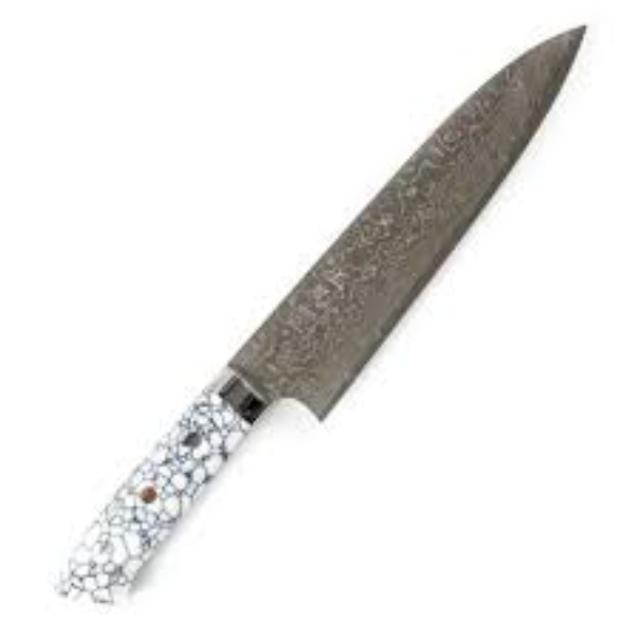Knife: (52, 20, 586, 602)
